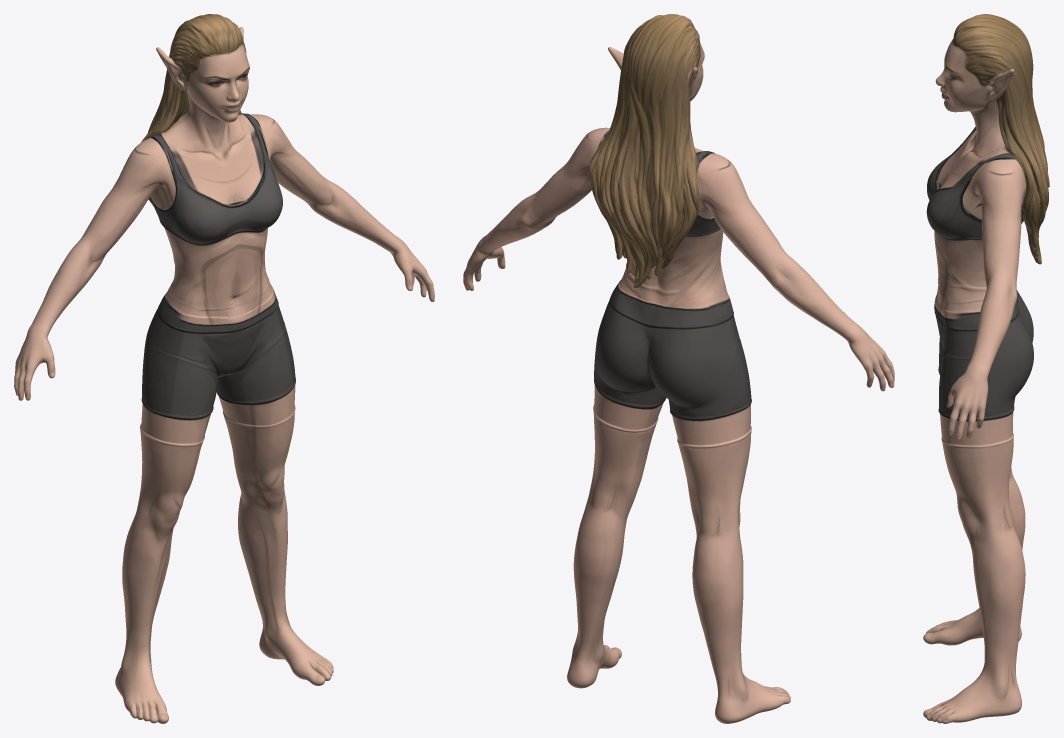
The model's file is Meshy_AI_Elven_Character_Model_0927155510_texture.glb.
The picture shows the model from 3 angles, left to right: view 1: azimuth 30°, elevation 25°; view 2: azimuth 150°, elevation 25°; view 3: azimuth 270°, elevation 25°; orthographic projection. The views are drawn at different scales.
Size of the model in its own units: 1.25 by 1.9 by 0.3305.
1 material, 1 textured.
